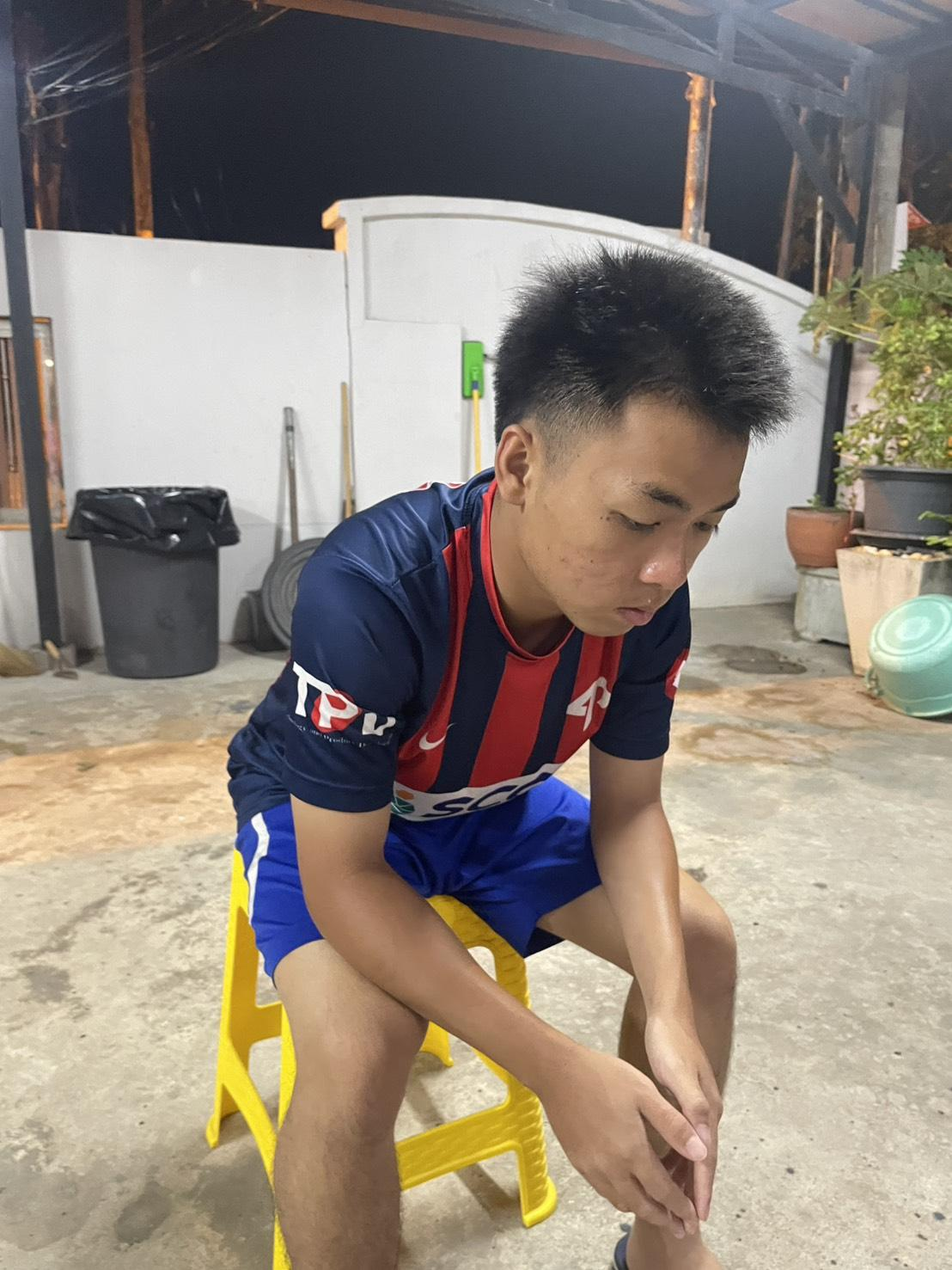BadPosture: (229, 250, 789, 842)
